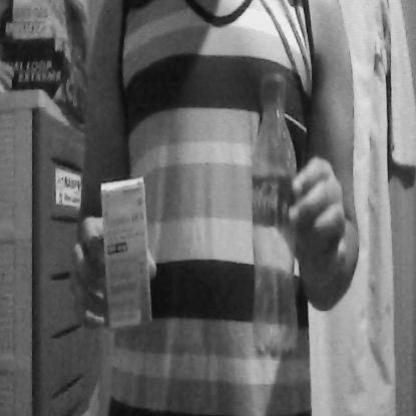Plastic Bottle: (246, 58, 303, 368)
